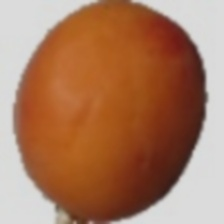apricot: (31, 18, 207, 183)
